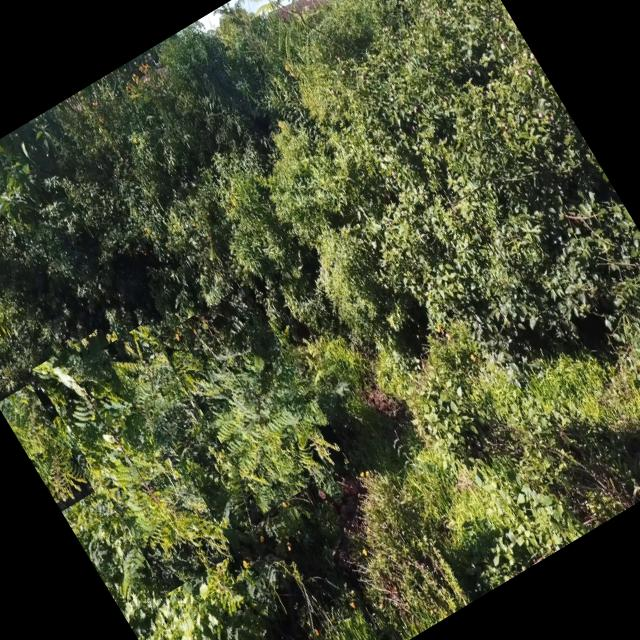Mysore-Thorn-Weed: (32, 328, 236, 594), (158, 284, 352, 514), (102, 322, 208, 453), (147, 554, 291, 640), (0, 384, 95, 512)
